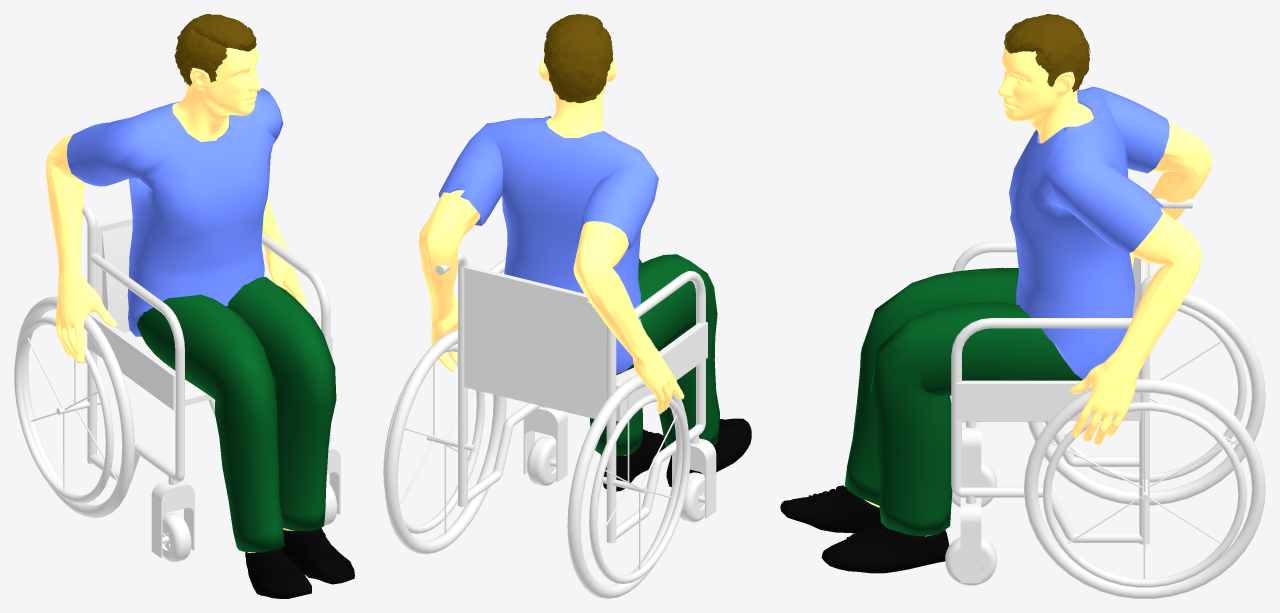
Rendered from Man_01_Moving-transformed.glb.
The picture shows the model from 3 angles, left to right: view 1: azimuth 30°, elevation 25°; view 2: azimuth 150°, elevation 25°; view 3: azimuth 270°, elevation 25°; orthographic projection. The views are drawn at different scales.
Visible parts, largest first — view 1: Bottoms, Top, Chair, Body, Shoes, Hair; view 2: Chair, Top, Body, Bottoms, Hair, Shoes; view 3: Chair, Bottoms, Top, Body, Shoes, Hair.
Boxes of the visible parts, x1=… form: Bottoms: x1=137, y1=277, x2=336, y2=552; Top: x1=66, y1=88, x2=283, y2=336; Chair: x1=14, y1=203, x2=340, y2=562; Body: x1=46, y1=46, x2=306, y2=552; Shoes: x1=245, y1=527, x2=354, y2=598; Hair: x1=174, y1=14, x2=256, y2=85; Chair: x1=383, y1=252, x2=716, y2=598; Top: x1=438, y1=116, x2=658, y2=373; Body: x1=419, y1=59, x2=684, y2=455; Bottoms: x1=590, y1=254, x2=719, y2=455; Hair: x1=544, y1=14, x2=613, y2=103; Shoes: x1=600, y1=418, x2=751, y2=491; Chair: x1=945, y1=198, x2=1265, y2=598; Bottoms: x1=845, y1=267, x2=1082, y2=536; Top: x1=1009, y1=86, x2=1169, y2=379; Body: x1=864, y1=48, x2=1211, y2=536; Shoes: x1=780, y1=485, x2=949, y2=573; Hair: x1=1004, y1=14, x2=1090, y2=91.
Bounding box in the file's own units: 0.7153 × 1.46 × 1.2.
